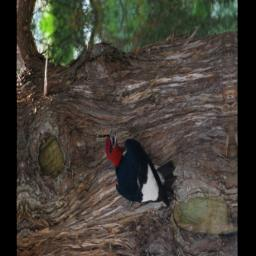Woodpecker: (101, 114, 178, 225)
